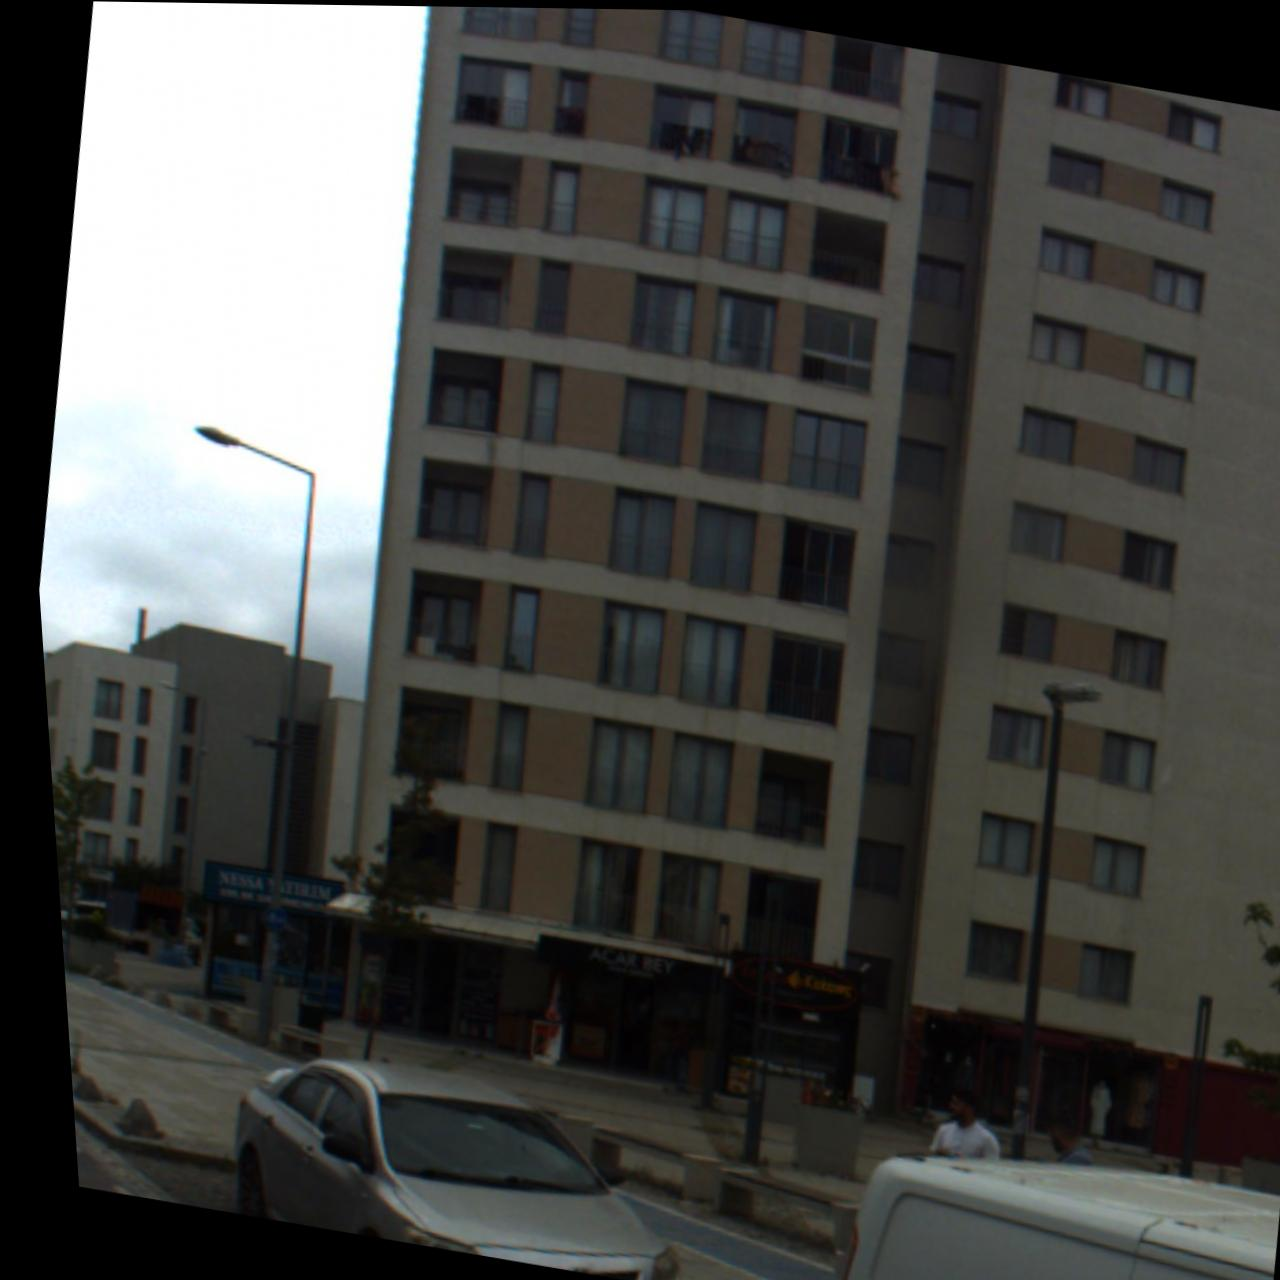SignStore: (525, 933, 700, 992), (716, 949, 851, 1016), (190, 860, 332, 919)
